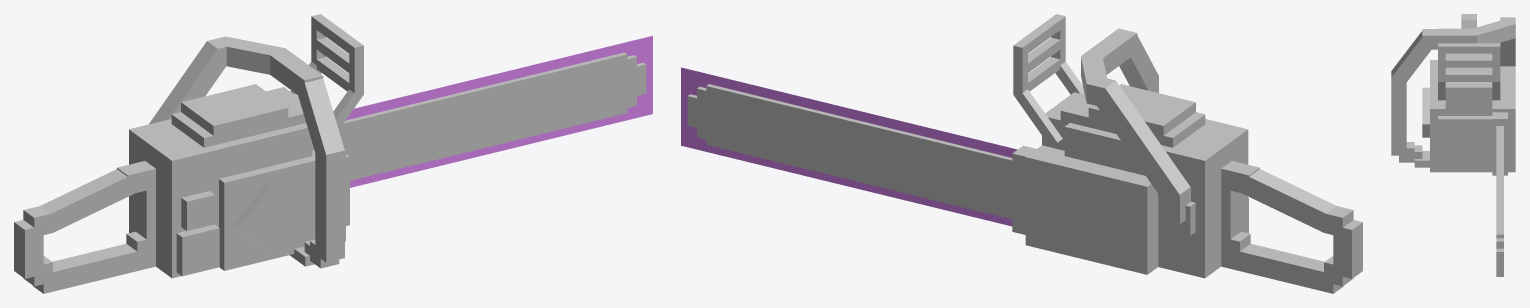
Rendered from chainsaw_obsidian.obj.
3 renders of one model, left to right at view 1: azimuth 30°, elevation 25°; view 2: azimuth 150°, elevation 25°; view 3: azimuth 270°, elevation 25°, orthographic. The views are drawn at different scales.
Parts seen in each view (by area): view 1: shape87_34, shape87_4, shape87_6, blade1, shape87_8, shape87_13, shape87_19, shape87_7, Shape30, Shape26_9, shape87_20, shape87_18 (+19 smaller); view 2: shape87_34, shape87_6, shape87_4, blade1, shape87_20, Shape30, shape87_8, Shape26_9, shape87_13, shape87_21, shape87_11, shape87_18 (+20 smaller); view 3: shape87_6, shape87_2, shape87_3, shape87_19, shape87_18, shape87_21, shape87_34, shape87_16, shape87_11, shape87_30, shape87_29, shape87_15 (+15 smaller).
Part boxes in pixels (left/top/right/bottom): shape87_34: left=339, top=52, right=627, bottom=180; shape87_4: left=129, top=119, right=218, bottom=278; shape87_6: left=219, top=150, right=345, bottom=270; blade1: left=346, top=36, right=652, bottom=187; shape87_8: left=181, top=84, right=288, bottom=145; shape87_13: left=214, top=123, right=312, bottom=178; shape87_19: left=315, top=150, right=344, bottom=252; shape87_7: left=233, top=182, right=304, bottom=254; Shape30: left=40, top=169, right=134, bottom=232; Shape26_9: left=52, top=243, right=137, bottom=291; shape87_20: left=149, top=41, right=226, bottom=124; shape87_18: left=296, top=78, right=344, bottom=159; shape87_34: left=706, top=84, right=1012, bottom=219; shape87_6: left=1025, top=145, right=1158, bottom=274; shape87_4: left=1158, top=119, right=1248, bottom=278; blade1: left=681, top=67, right=1017, bottom=226; shape87_20: left=1092, top=81, right=1190, bottom=203; Shape30: left=1242, top=169, right=1336, bottom=232; shape87_8: left=1088, top=84, right=1195, bottom=145; Shape26_9: left=1240, top=243, right=1324, bottom=291; shape87_13: left=1064, top=123, right=1163, bottom=175; shape87_21: left=1081, top=28, right=1137, bottom=74; shape87_11: left=1012, top=145, right=1036, bottom=234; shape87_18: left=1119, top=35, right=1158, bottom=89; shape87_6: left=1430, top=66, right=1515, bottom=172; shape87_2: left=1438, top=116, right=1492, bottom=168; shape87_3: left=1445, top=82, right=1492, bottom=108; shape87_19: left=1391, top=78, right=1406, bottom=148; shape87_18: left=1391, top=31, right=1431, bottom=85; shape87_21: left=1422, top=29, right=1476, bottom=49; shape87_34: left=1496, top=126, right=1503, bottom=276; shape87_16: left=1468, top=19, right=1514, bottom=43; shape87_11: left=1492, top=112, right=1507, bottom=175; shape87_30: left=1445, top=57, right=1492, bottom=67; shape87_29: left=1445, top=43, right=1492, bottom=53; shape87_15: left=1445, top=71, right=1492, bottom=81.
Size of the model in its own units: 2.19 by 0.6094 by 0.5.
